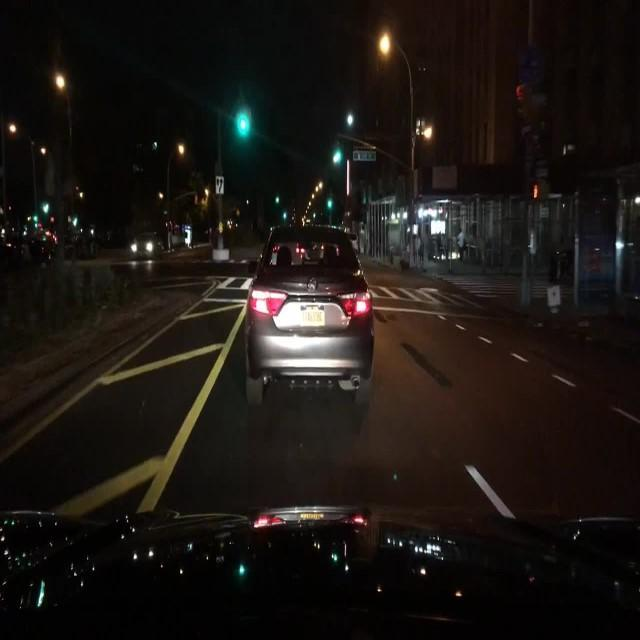normal: (209, 188, 418, 442)
